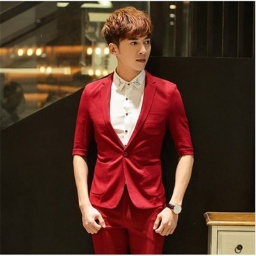face: (102, 6, 152, 71)
